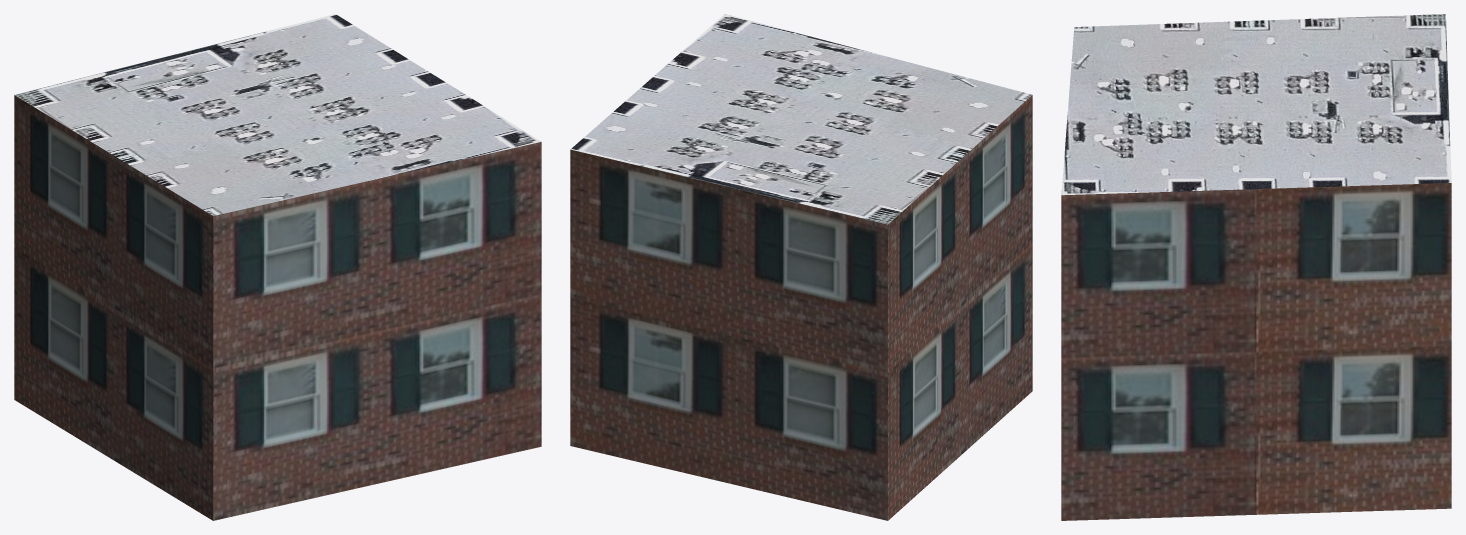
File: ResTex__2653.fbx
The picture shows the model from 3 angles, left to right: view 1: azimuth 30°, elevation 25°; view 2: azimuth 150°, elevation 25°; view 3: azimuth 270°, elevation 25°; orthographic projection. The views are drawn at different scales.
Visible parts, largest first — view 1: CityEngineMaterial_14_m, CityEngineMaterial_m; view 2: CityEngineMaterial_14_m, CityEngineMaterial_m; view 3: CityEngineMaterial_14_m, CityEngineMaterial_m.
Part boxes in pixels (x1,y1,x2,y2): CityEngineMaterial_14_m: (14, 95, 541, 520); CityEngineMaterial_m: (15, 14, 541, 215); CityEngineMaterial_14_m: (570, 95, 1032, 520); CityEngineMaterial_m: (570, 14, 1032, 224); CityEngineMaterial_14_m: (1061, 183, 1451, 520); CityEngineMaterial_m: (1061, 14, 1451, 195).
Bounding box in the file's own units: 7.16 × 6 × 6.51.
Materials: 2 (2 with a texture image).
